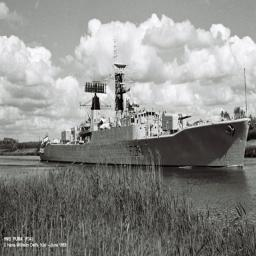Fragata: (36, 40, 254, 169)
